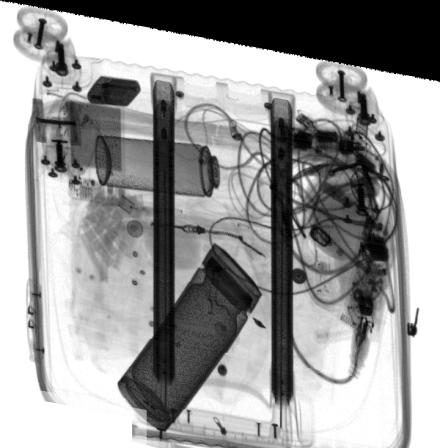Lighter: (87, 72, 141, 103)
Powerbank: (64, 94, 125, 202)
Sprayer: (95, 131, 246, 191)
